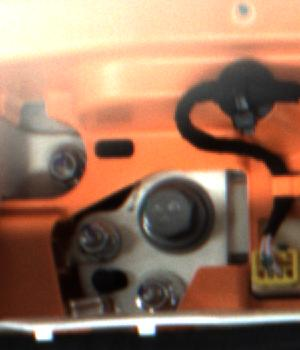nut_b: (133, 174, 216, 253)
